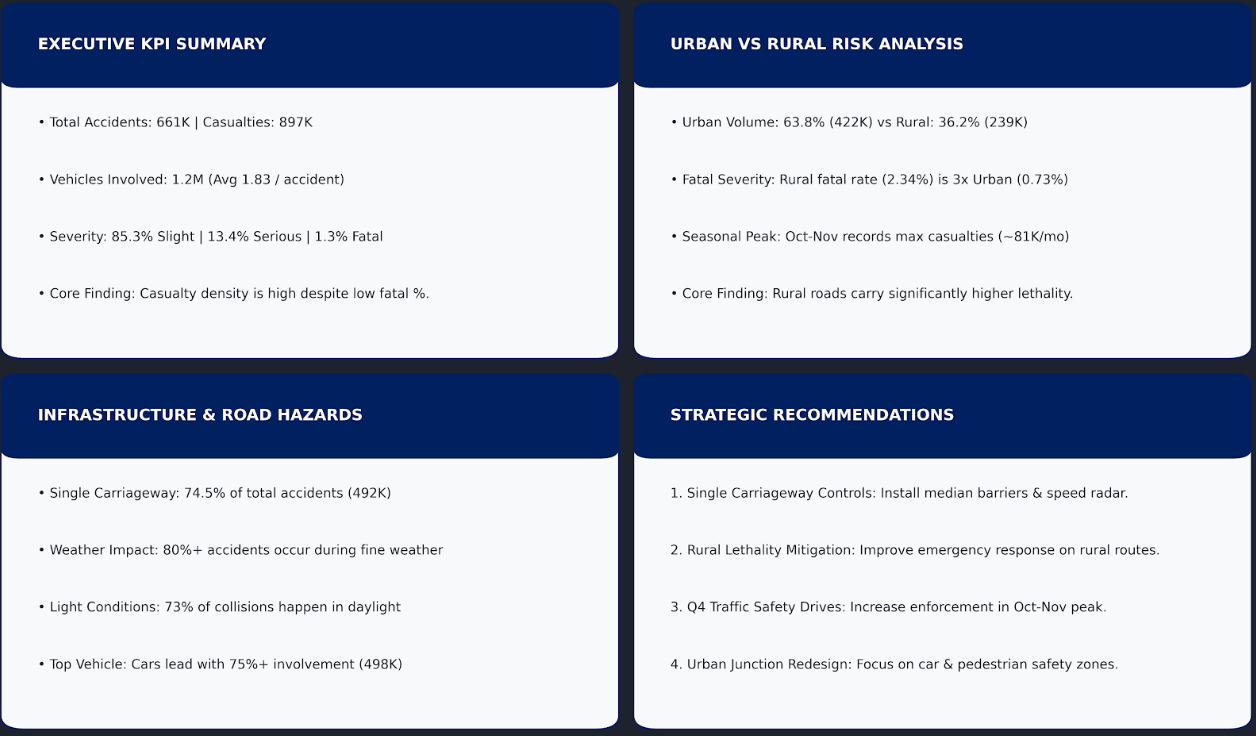

What the dashboard file says about the page in this screenshot:
{"tool":"powerbi","page":{"name":"08_Insights &Advice","canvas":[1920,1080],"ordinal":7},"visuals":[{"type":"image","box":[0,0,1920.1,1080.4],"z":0}]}

Visuals, with their boxes on the page's 1920x1080 design canvas (x1, y1, x2, y2). These are canvas units, not pixel positions in the 1256x736 screenshot, which may show the page scaled, cropped or inside an application window:
image: [0, 0, 1920, 1080]
